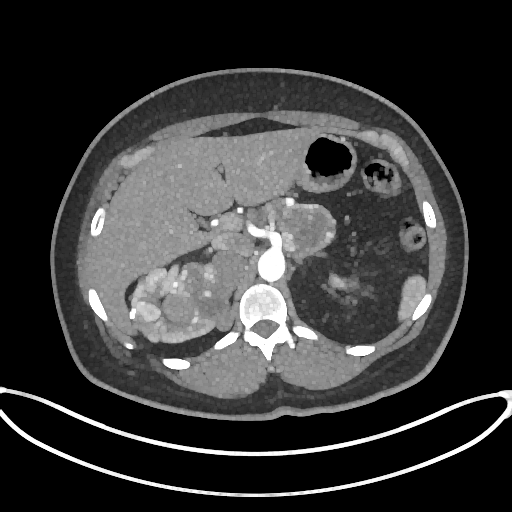Lesion: (131, 294, 165, 325)
